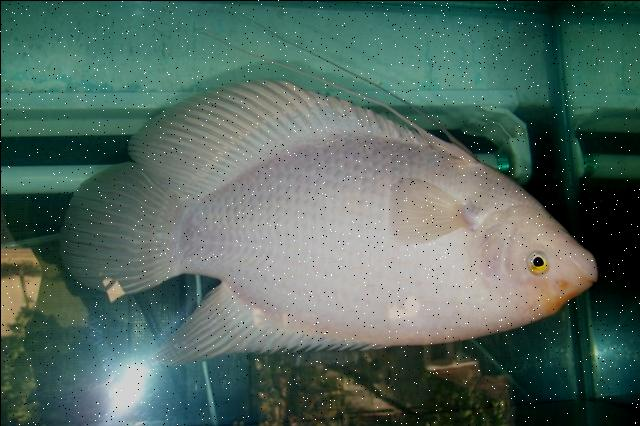Mulut: (554, 222, 620, 310)
Sirip Anal: (124, 72, 434, 196)
Sirip Dada: (371, 164, 489, 260)
Sirip Ekor: (38, 152, 184, 298)
Sirip Perut: (405, 110, 487, 172)
Sirip Punggung: (139, 278, 413, 378)
